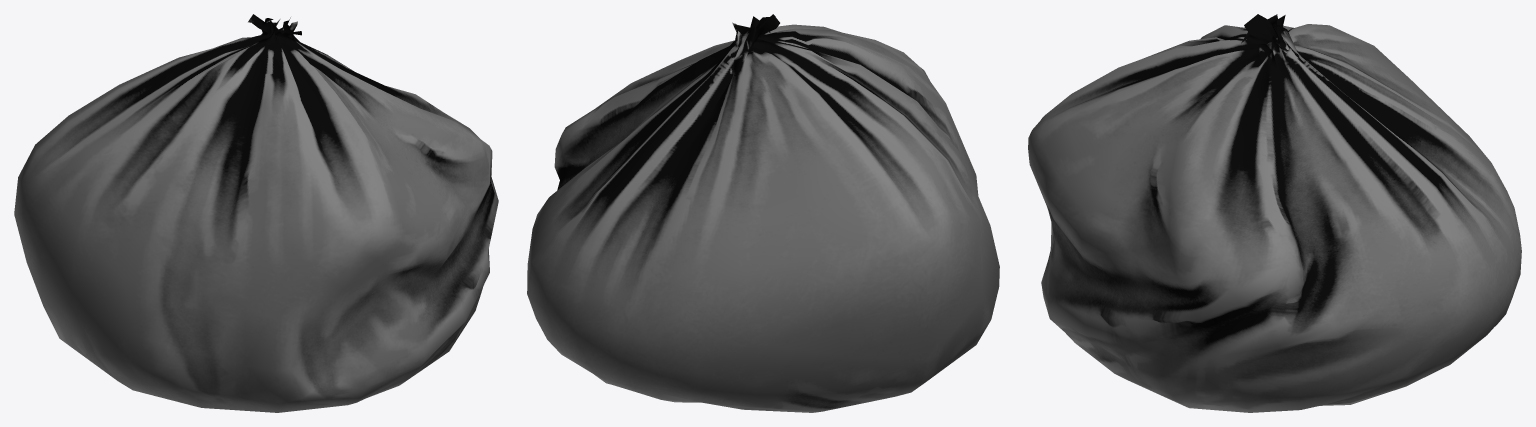
File: low_poly_trash_bag.glb
3 views of the same model, side by side, from view 1: azimuth 30°, elevation 25°; view 2: azimuth 150°, elevation 25°; view 3: azimuth 270°, elevation 25° (orthographic).
Parts seen in each view (by area): view 1: Object_2; view 2: Object_2; view 3: Object_2.
Part boxes in pixels (x1,y1,x2,y2): Object_2: (14,14,498,412); Object_2: (527,14,999,412); Object_2: (1028,14,1521,412).
Bounding box in the file's own units: 134 × 100 × 135.
1 material, 1 textured.
